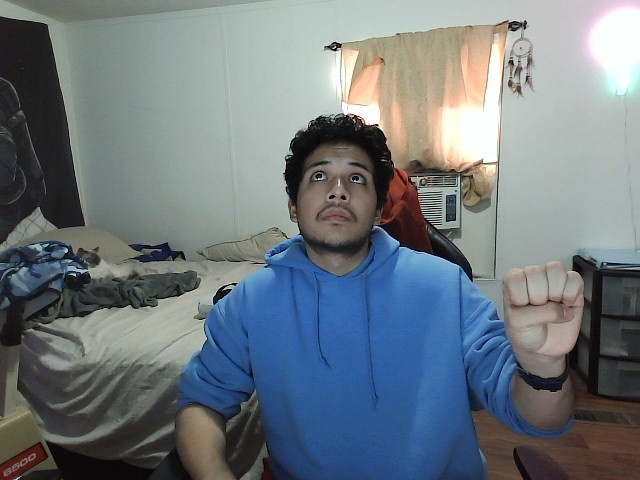E: (500, 260, 587, 356)
